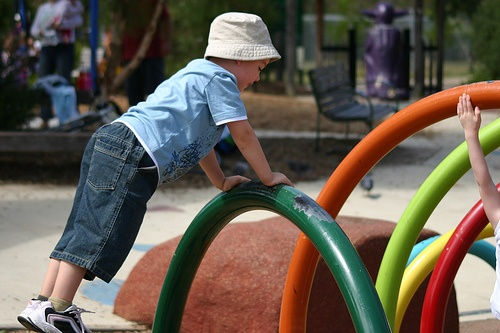head: (210, 13, 275, 97)
person: (16, 7, 296, 330)
